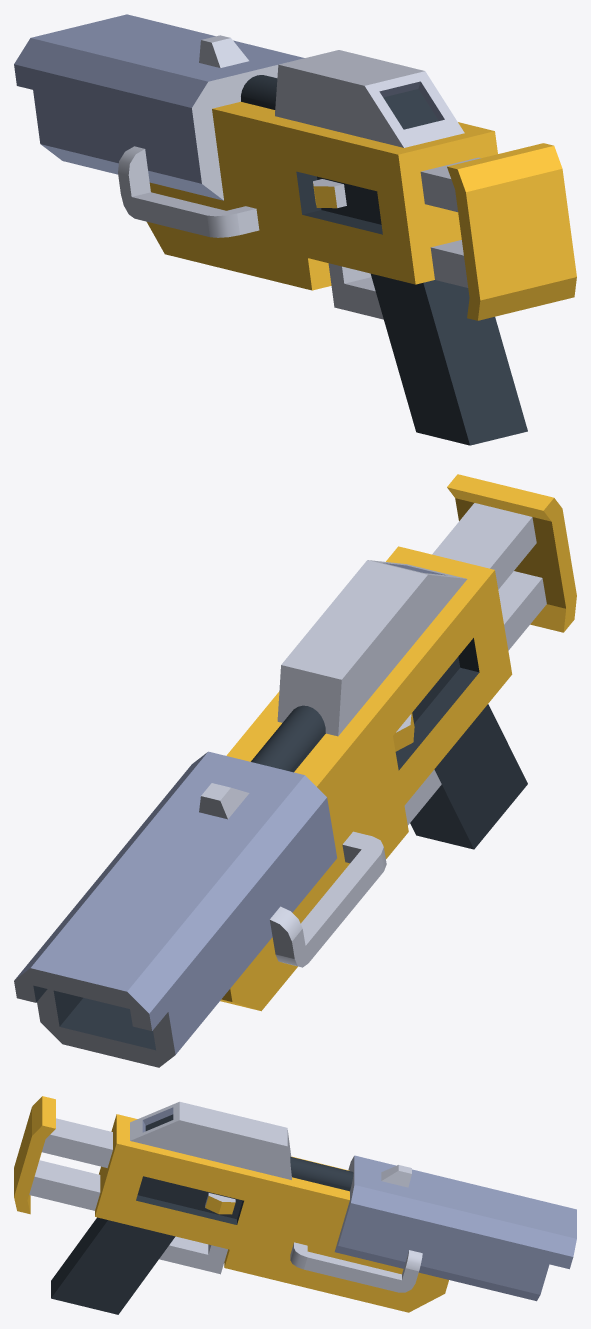
The model's file is blaster.glb.
3 views of the same model, one above another, from view 1: azimuth 30°, elevation 25°; view 2: azimuth 150°, elevation 25°; view 3: azimuth 270°, elevation 25° (orthographic). The views are drawn at different scales.
Visible parts, largest first — view 1: blaster; view 2: blaster; view 3: blaster.
Part boxes in pixels (x1=…): blaster: x1=14, y1=14, x2=576, y2=445; blaster: x1=14, y1=474, x2=576, y2=1067; blaster: x1=14, y1=1096, x2=576, y2=1314.
Size of the model in its own units: 0.108 by 0.1852 by 0.4838.
